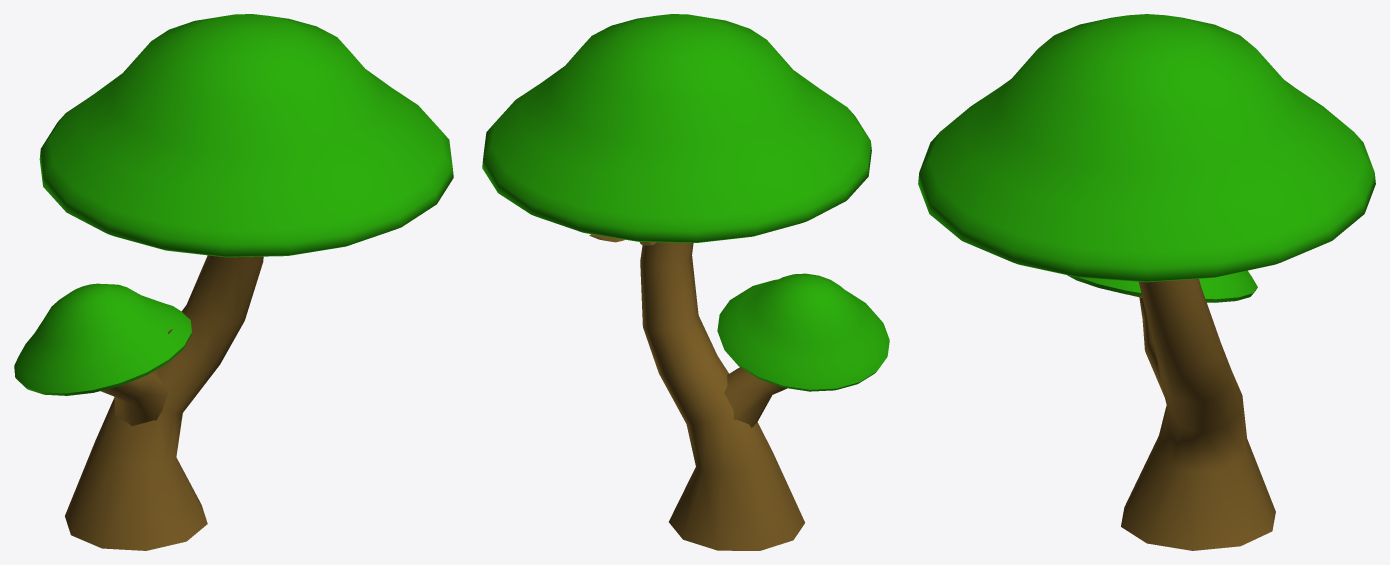
File: SM_MushroomTree_Jungle.fbx
The picture shows the model from 3 angles, left to right: view 1: azimuth 30°, elevation 25°; view 2: azimuth 150°, elevation 25°; view 3: azimuth 270°, elevation 25°; orthographic projection. The views are drawn at different scales.
Parts seen in each view (by area): view 1: pSphere8, pCylinder39, pSphere9; view 2: pSphere8, pCylinder39, pSphere9; view 3: pSphere8, pCylinder39, pSphere9.
Boxes of the visible parts, box(x1,y1,x2,y2) form: pSphere8: box(39, 14, 453, 257); pCylinder39: box(65, 255, 263, 550); pSphere9: box(14, 283, 191, 395); pSphere8: box(482, 14, 871, 242); pCylinder39: box(589, 234, 804, 550); pSphere9: box(717, 273, 889, 391); pSphere8: box(918, 14, 1375, 282); pCylinder39: box(1121, 279, 1275, 550); pSphere9: box(1067, 270, 1257, 302).
Size of the model in its own units: 364 by 426 by 330.
